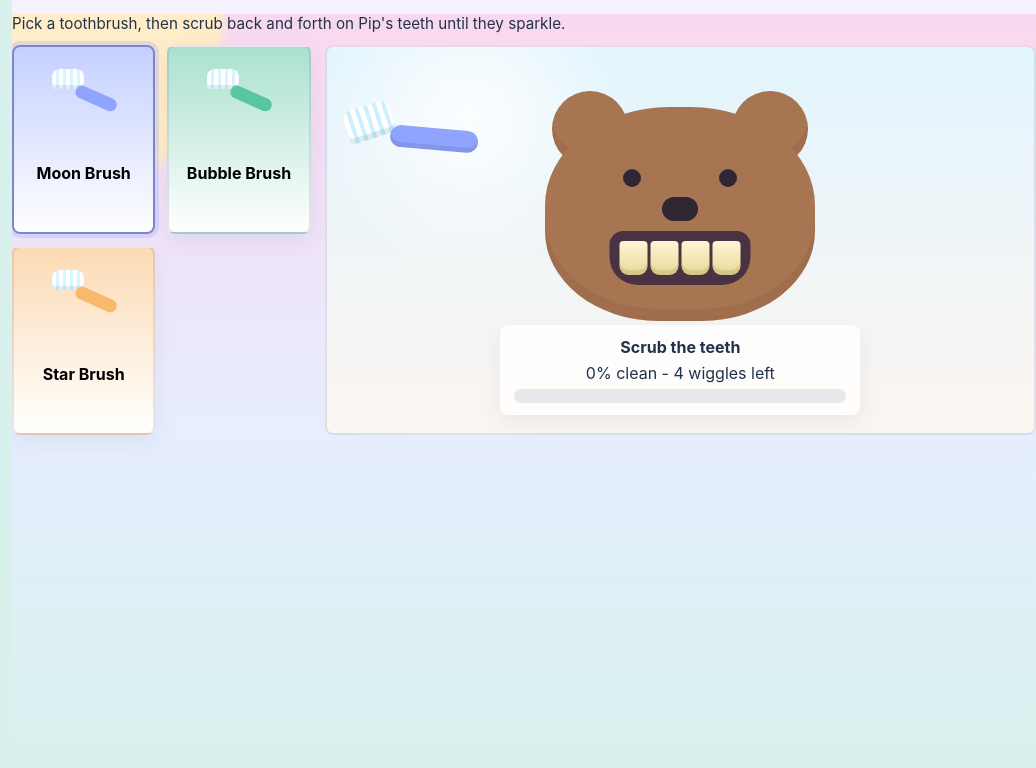
Test case: BrushStep › requires five seconds of back-and-forth scrubbing over the teeth
The width and height of the screenshot is (1036, 768).
Step 1. Press the mouse on the button named "Move Moon Brush" → [411, 134], box 336,70 -> 486,197
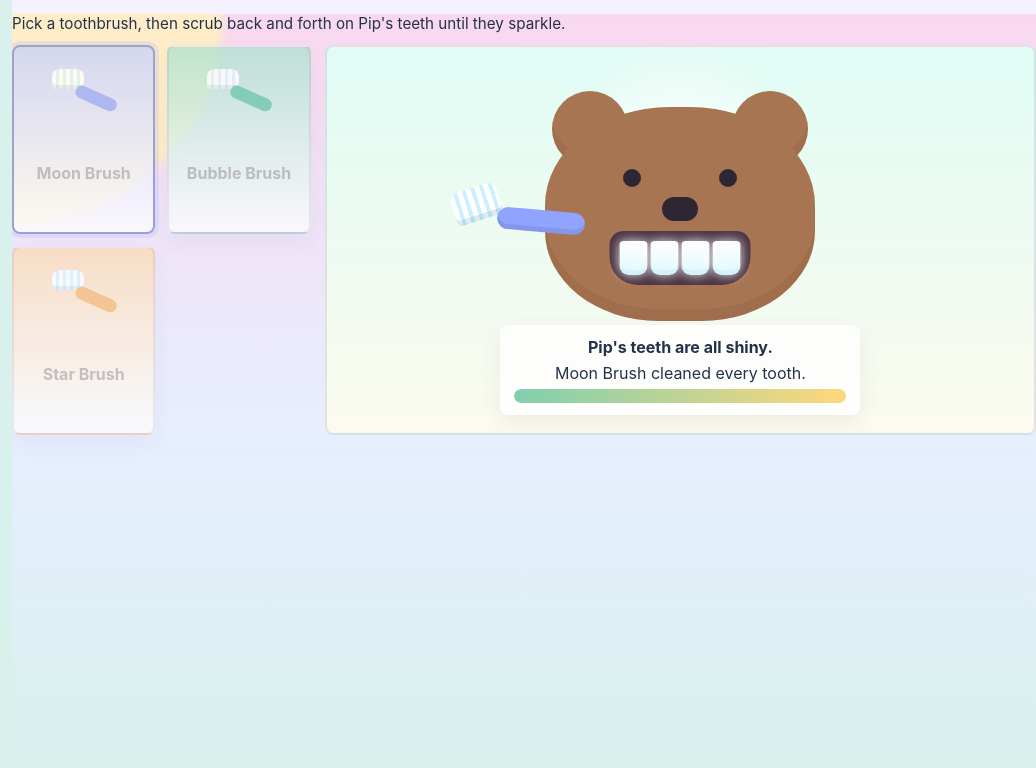
Check: the text "Pip's teeth are all shiny." is shown, box 588,337 -> 773,357
